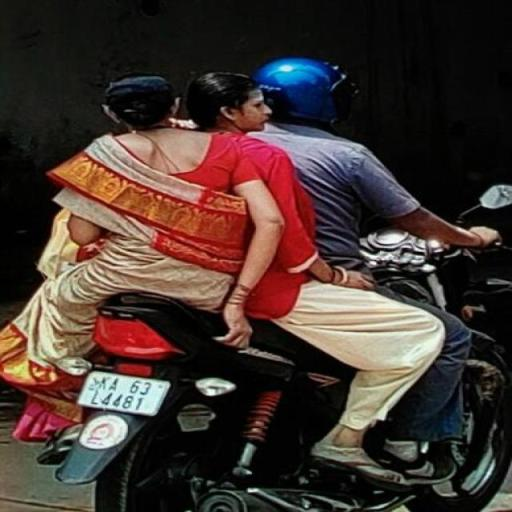tripple riding: (41, 56, 491, 302)
